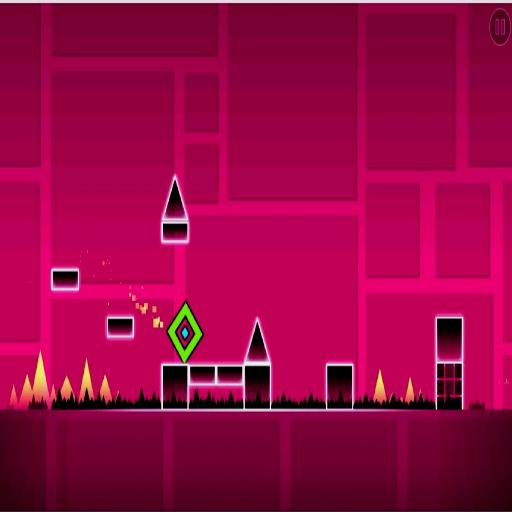block: (159, 360, 273, 416), (433, 312, 467, 408), (325, 364, 354, 409), (104, 314, 137, 340), (160, 220, 192, 244), (49, 268, 81, 290)
player: (167, 301, 202, 363)
spike: (163, 176, 187, 219), (245, 319, 268, 362), (33, 351, 49, 404), (79, 360, 93, 400), (19, 376, 32, 408), (374, 369, 386, 403), (100, 376, 112, 402), (61, 377, 74, 400), (405, 378, 414, 403), (9, 386, 18, 409), (49, 386, 56, 405)
